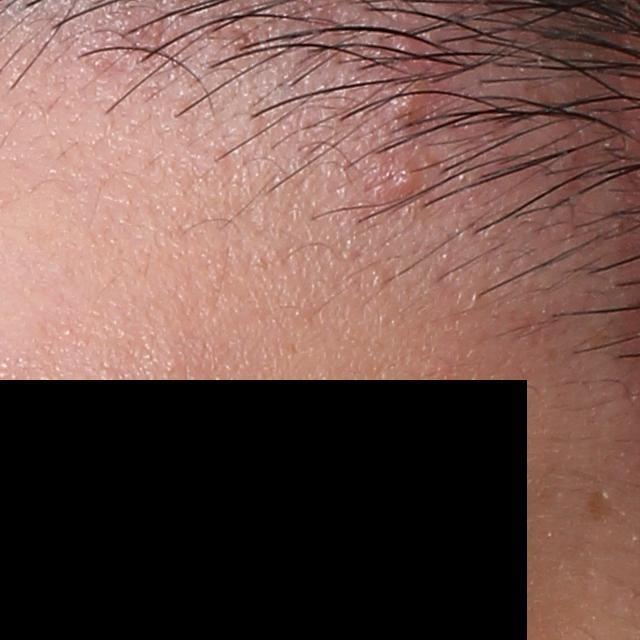papule: (376, 161, 425, 202)
